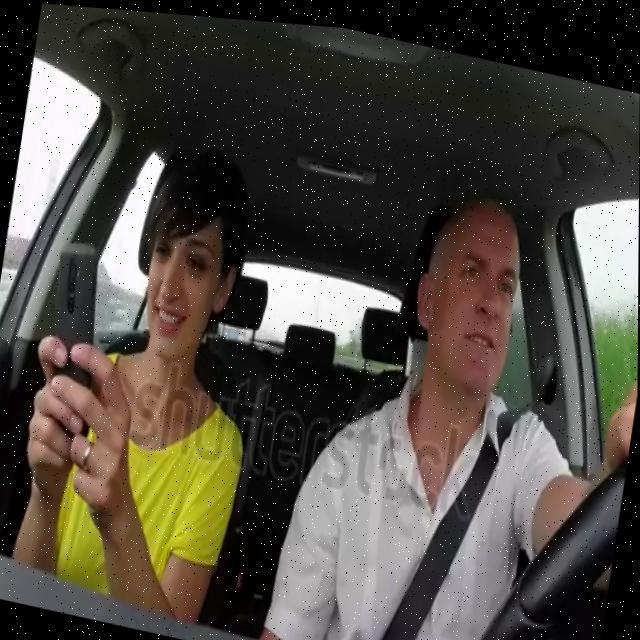PhoneCall: (32, 234, 114, 436)
